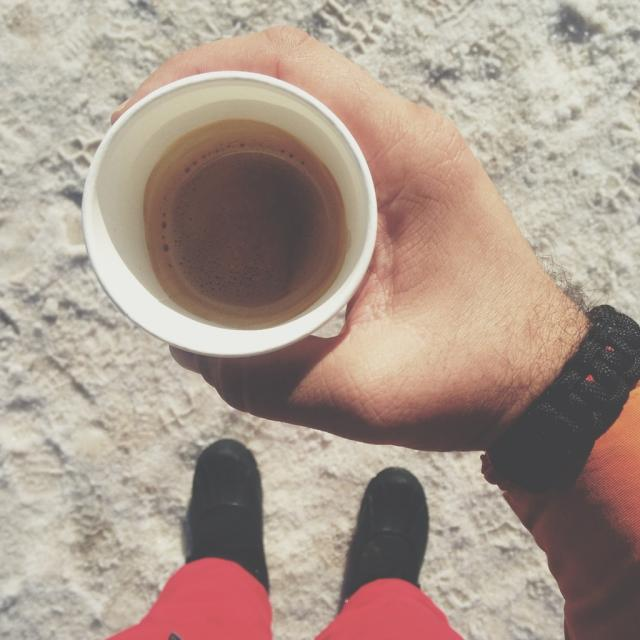Coffee: (86, 42, 400, 362)
Tea: (140, 118, 342, 334)
